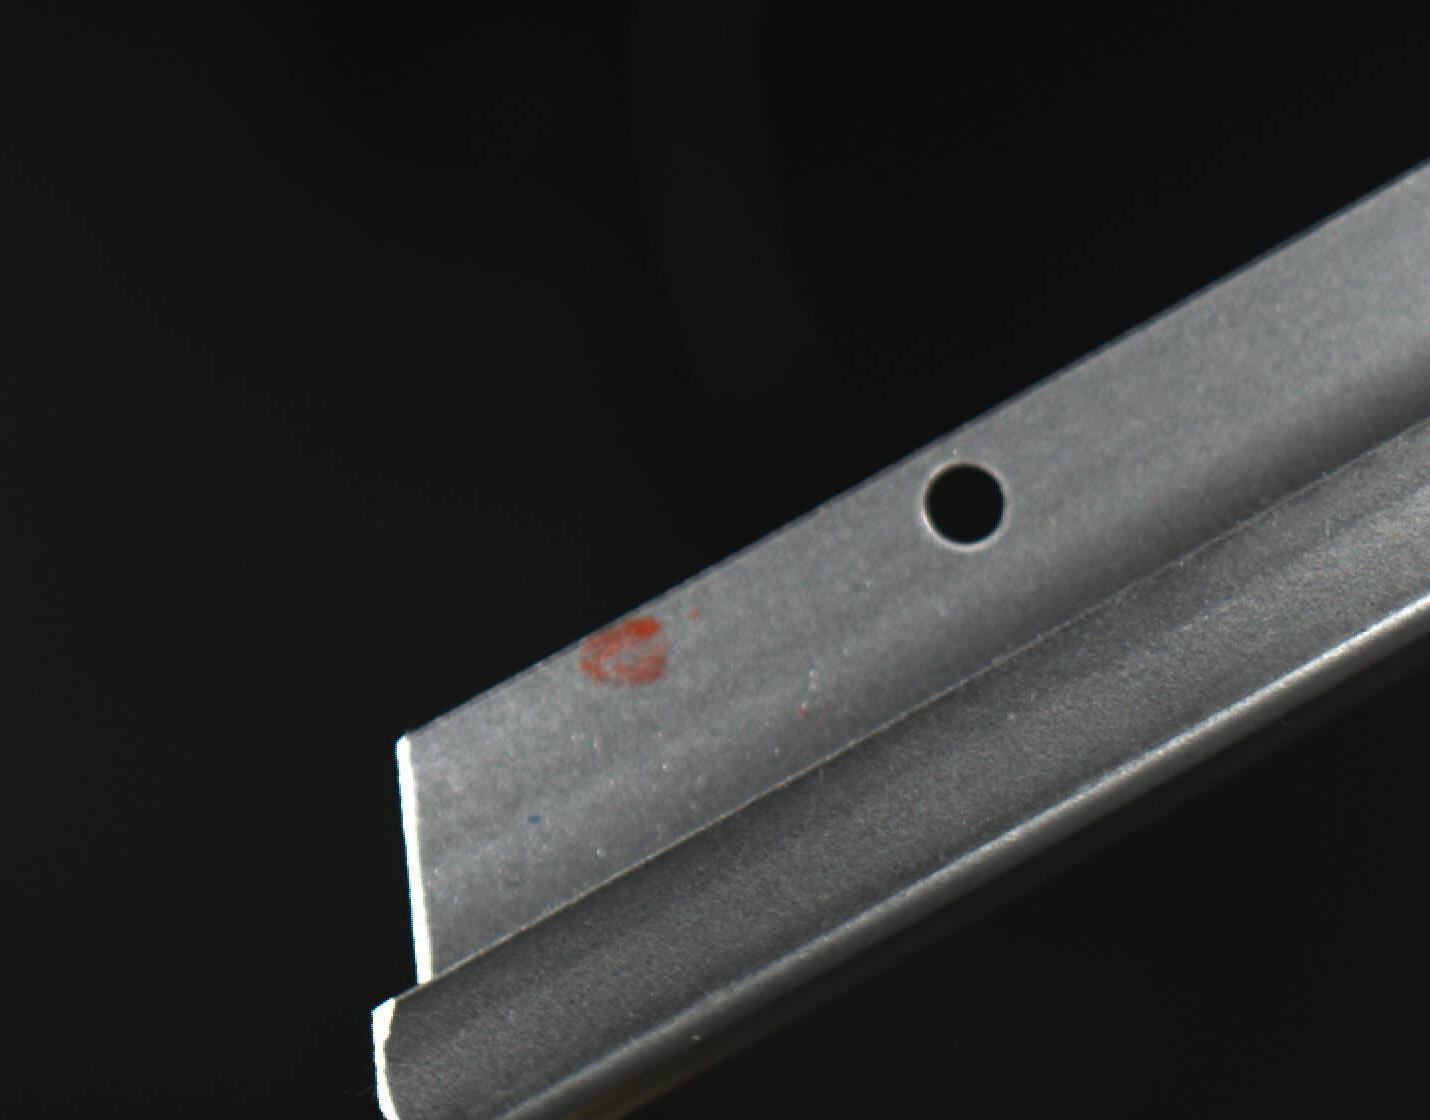cut: (298, 628, 768, 1117)
holes: (920, 460, 1012, 549)
